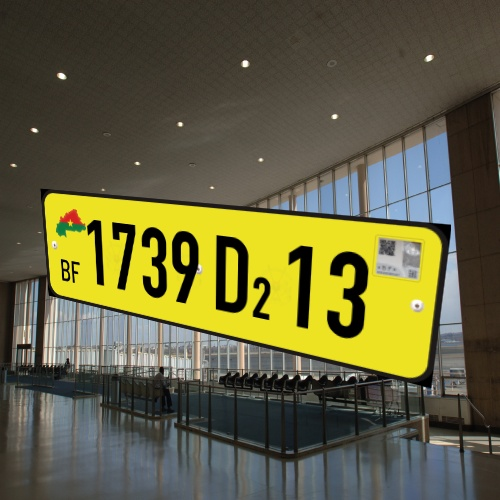plate: (26, 178, 457, 419)
